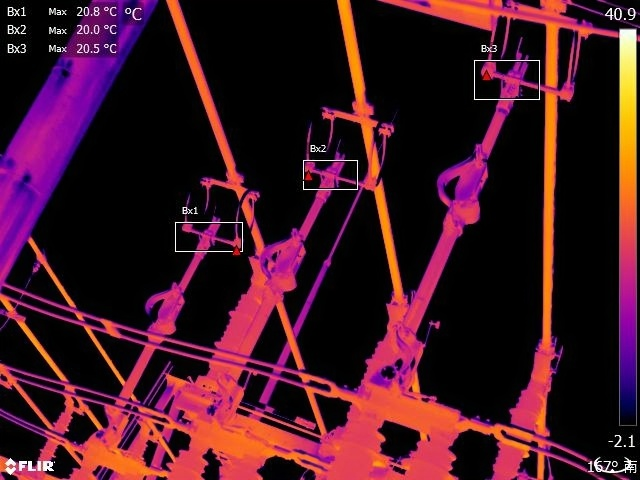post insulator: (481, 382, 548, 479), (211, 280, 264, 365), (324, 410, 384, 480), (26, 399, 76, 466), (399, 435, 460, 480), (155, 441, 201, 480)
switch: (371, 56, 524, 391), (224, 154, 332, 397), (106, 219, 218, 424)
